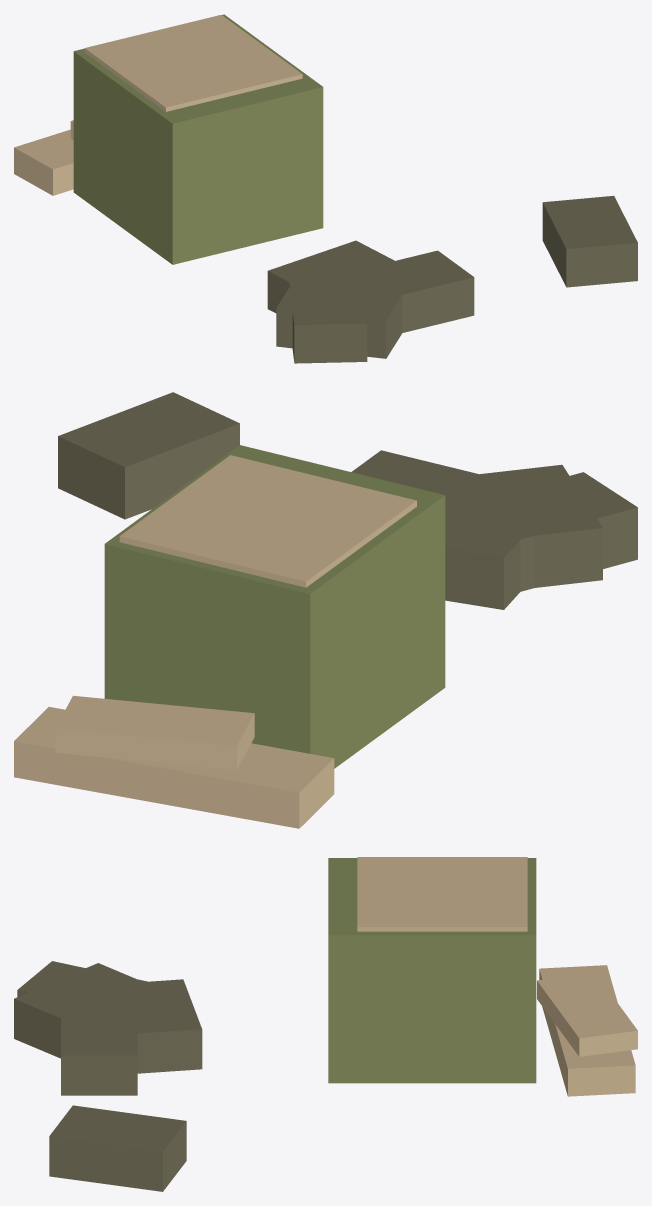
File: SM_HescoCorto1_v3_RemateSacos_e2_MuyDanado_LOD1.fbx
3 views of the same model, one above another, from view 1: azimuth 30°, elevation 25°; view 2: azimuth 150°, elevation 25°; view 3: azimuth 270°, elevation 25° (orthographic). The views are drawn at different scales.
Visible parts, largest first — view 1: SM_hesco_piezas_v54_LOD1; view 2: SM_hesco_piezas_v54_LOD1; view 3: SM_hesco_piezas_v54_LOD1.
Part boxes in pixels (x1,y1,x2,y2): SM_hesco_piezas_v54_LOD1: (14,14,637,363); SM_hesco_piezas_v54_LOD1: (14,392,637,828); SM_hesco_piezas_v54_LOD1: (14,857,637,1191).
Size of the model in its own units: 2.76 by 0.988 by 3.66.
